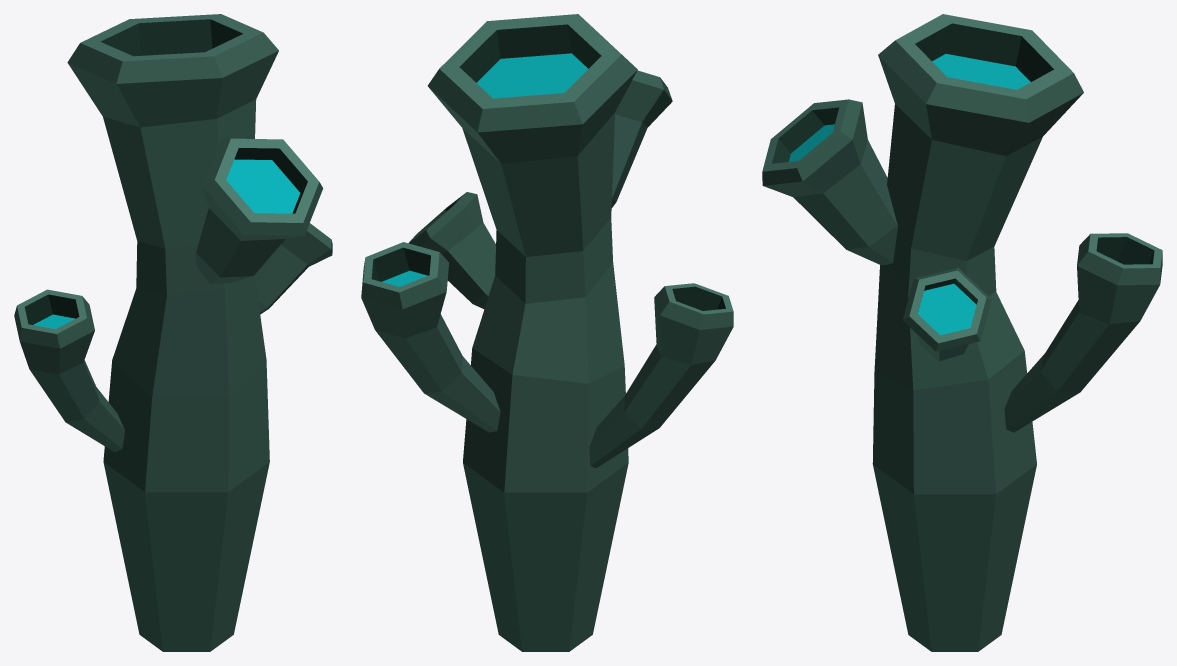
The model's file is PlantSF_03.glb.
3 views of the same model, side by side, from view 1: azimuth 30°, elevation 25°; view 2: azimuth 150°, elevation 25°; view 3: azimuth 270°, elevation 25° (orthographic).
Parts seen in each view (by area): view 1: PlantSF_03; view 2: PlantSF_03; view 3: PlantSF_03.
Boxes of the visible parts, left/top/right/bottom form: PlantSF_03: left=14, top=14, right=332, bottom=651; PlantSF_03: left=361, top=14, right=733, bottom=651; PlantSF_03: left=762, top=14, right=1162, bottom=651.
Size of what is drawn, in the model's own units: 0.9875 by 1.8 by 1.1.
1 material, 1 textured.
